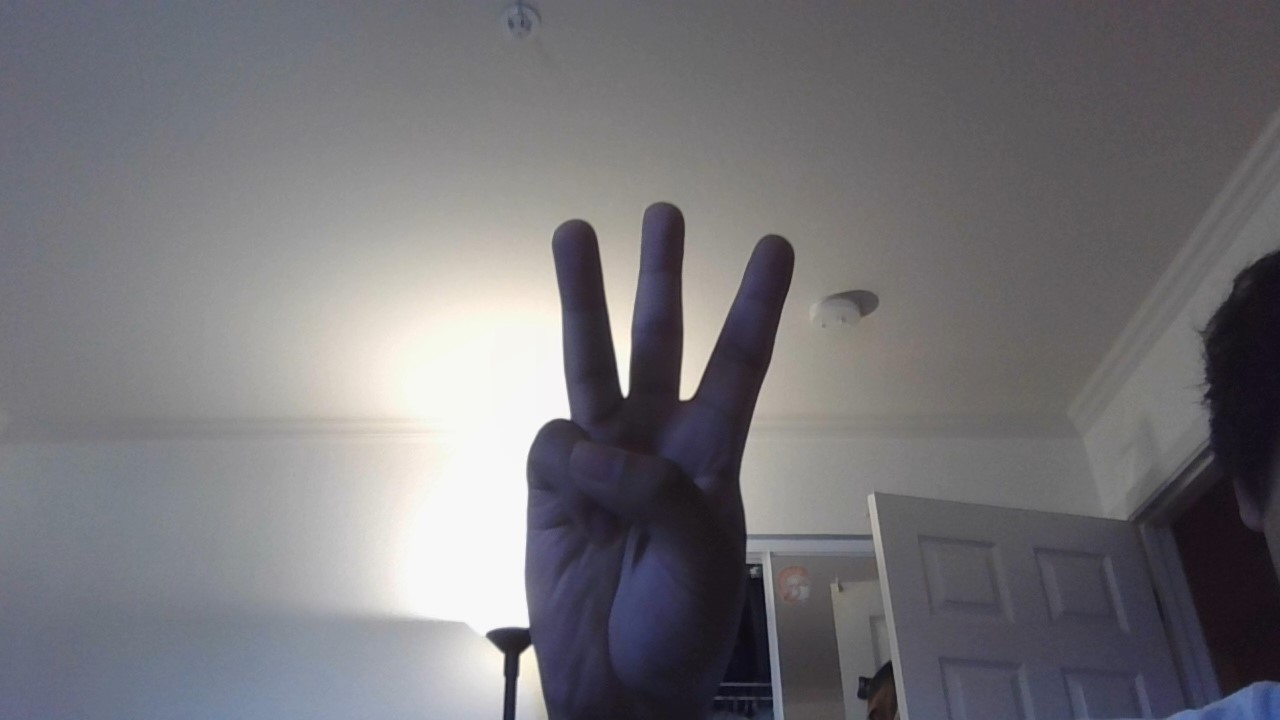w: (495, 195, 818, 720)
